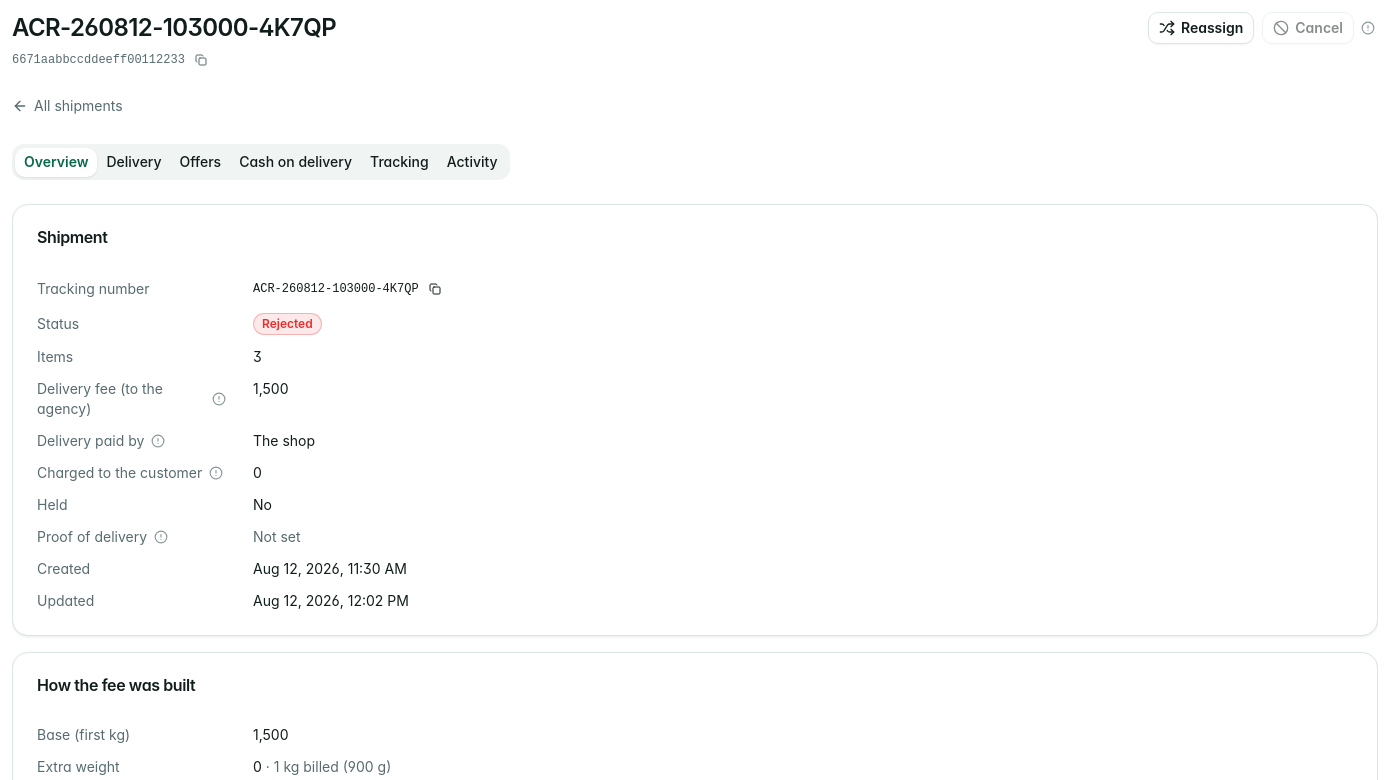
Test case: the record › marks an administrator rejection and does not link the actor
Step 1. Click the tab "Delivery" → [134, 162], box [98, 148, 171, 176]
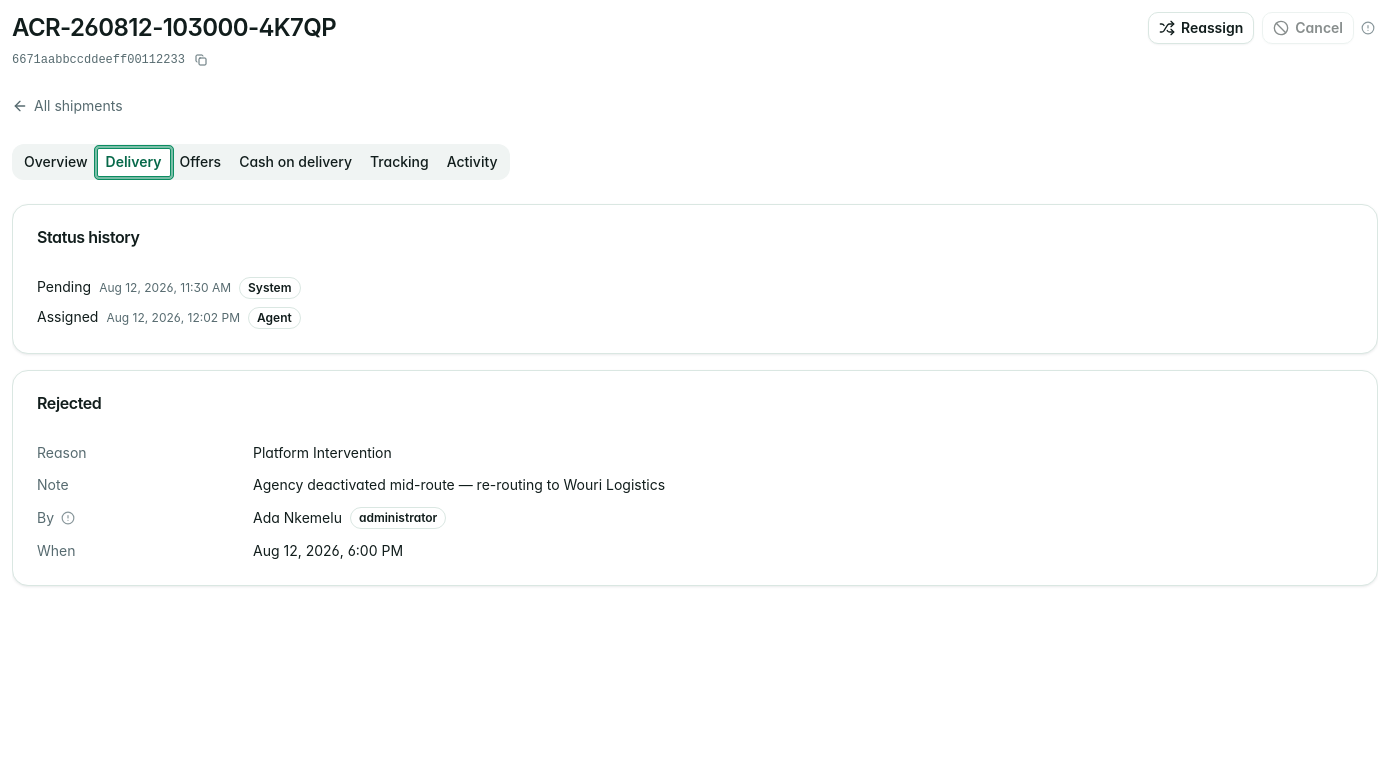
Check: the text "Ada Nkemelu" is shown, box [253, 509, 342, 526]
Check: the text "administrator" is shown, box [350, 507, 446, 529]
